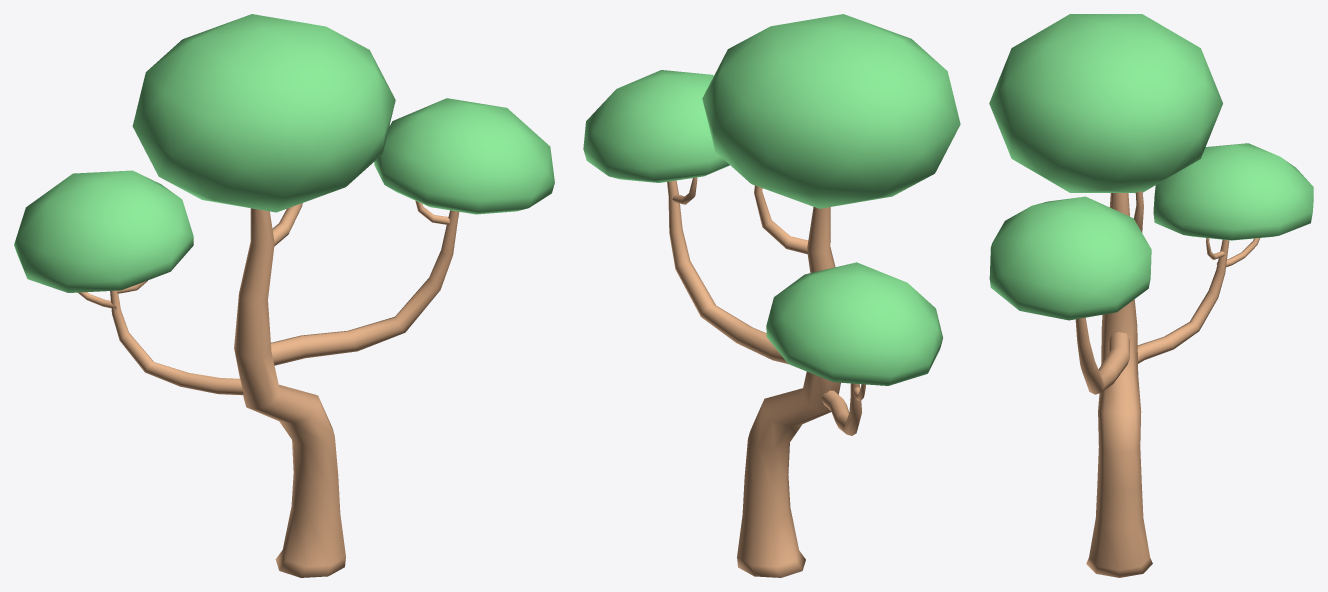
Rendered from Pohon_14.fbx.
3 views of the same model, side by side, from view 1: azimuth 30°, elevation 25°; view 2: azimuth 150°, elevation 25°; view 3: azimuth 270°, elevation 25° (orthographic). The views are drawn at different scales.
Visible parts, largest first — view 1: Circle.072; view 2: Circle.072; view 3: Circle.072.
Boxes of the visible parts, x1,y1,x2,y2 form: Circle.072: [14, 14, 554, 577]; Circle.072: [583, 14, 960, 577]; Circle.072: [989, 14, 1313, 577].
Size of the model in its own units: 1516 by 1858 by 1063.
